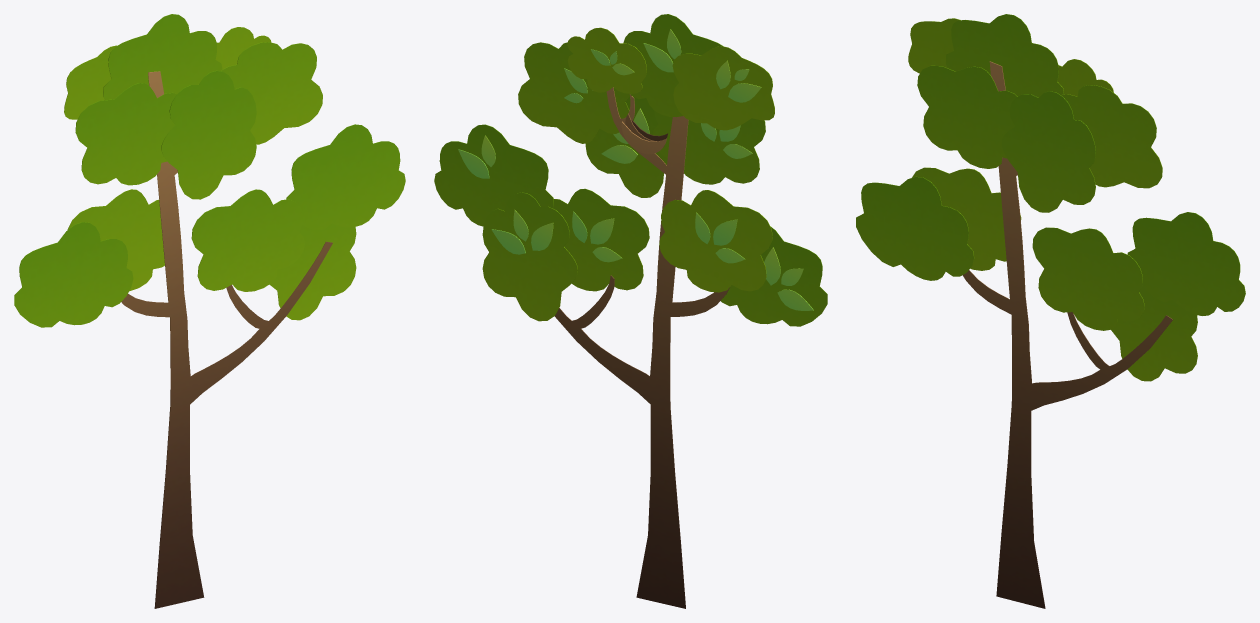
Rendered from obj-boom-ekster.FBX.
3 views of the same model, side by side, from view 1: azimuth 30°, elevation 25°; view 2: azimuth 150°, elevation 25°; view 3: azimuth 330°, elevation 25° (orthographic).
Parts seen in each view (by area): view 1: boom-ekster; view 2: boom-ekster; view 3: boom-ekster.
Part boxes in pixels (box(x1,y1,x2,y2)): boom-ekster: box(14, 14, 405, 608); boom-ekster: box(434, 14, 827, 608); boom-ekster: box(856, 14, 1245, 608).
Size of the model in its own units: 3.67 by 5.28 by 0.0402.
